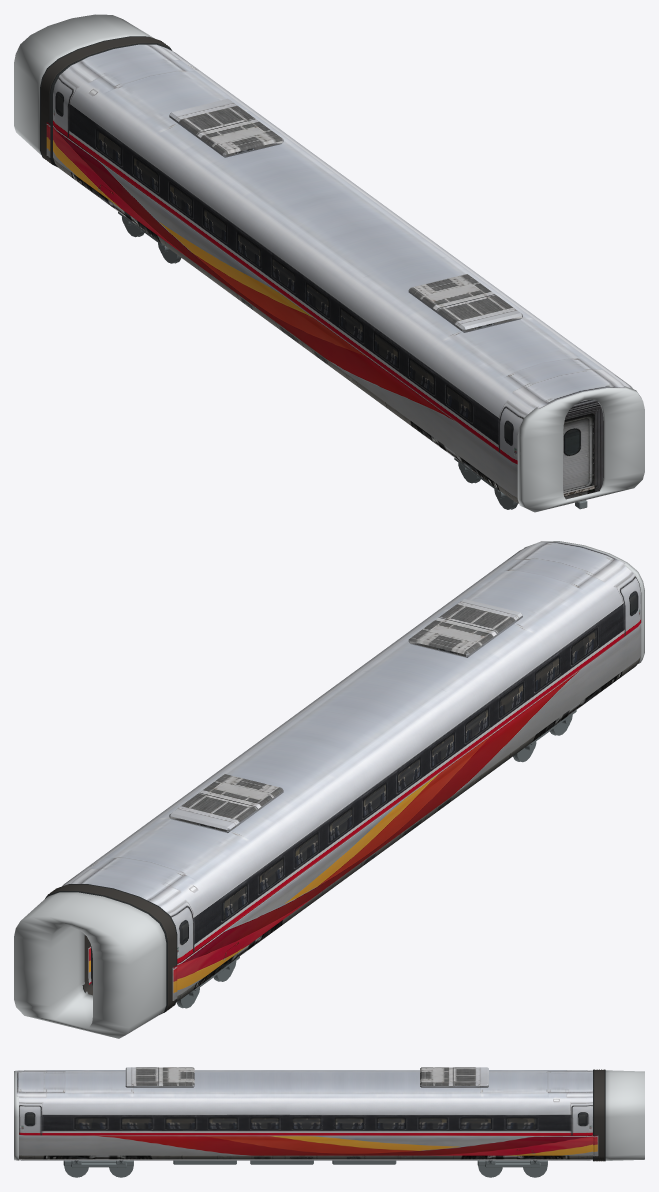
Rendered from cr400af-coach-mobile-v4.glb.
3 views of the same model, one above another, from view 1: azimuth 30°, elevation 25°; view 2: azimuth 150°, elevation 25°; view 3: azimuth 270°, elevation 25° (orthographic). The views are drawn at different scales.
Visible parts, largest first — view 1: cr400af_V4_shared_coach; view 2: cr400af_V4_shared_coach; view 3: cr400af_V4_shared_coach.
Boxes of the visible parts, box(x1,y1,x2,y2) form: cr400af_V4_shared_coach: box(14, 14, 644, 512); cr400af_V4_shared_coach: box(14, 541, 644, 1038); cr400af_V4_shared_coach: box(14, 1067, 644, 1177).
Size of the model in its own units: 3.42 by 3.89 by 23.78.
Materials: 8 (3 with a texture image).
